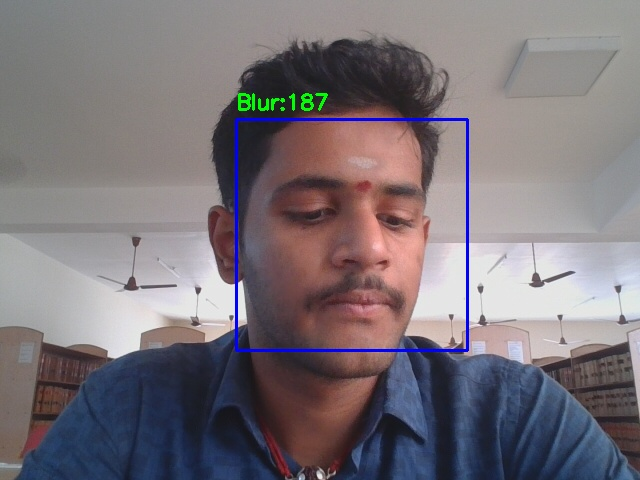real: (236, 119, 467, 350)
